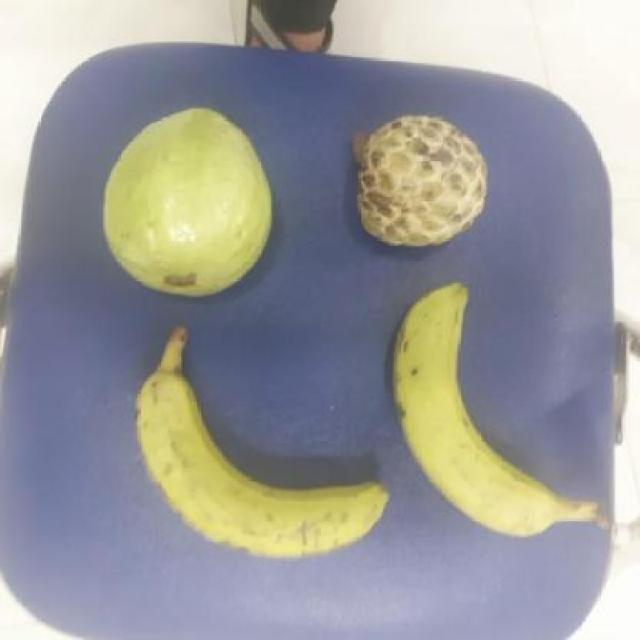banana: (122, 370, 382, 558), (386, 284, 562, 541)
guava: (93, 111, 270, 297)
sugar apple: (348, 116, 490, 247)
